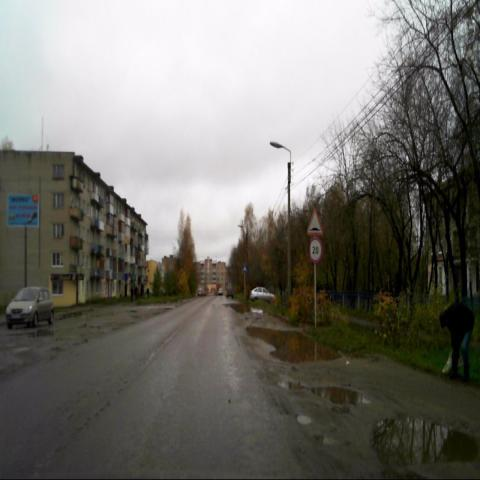1_17: (306, 207, 323, 236)
